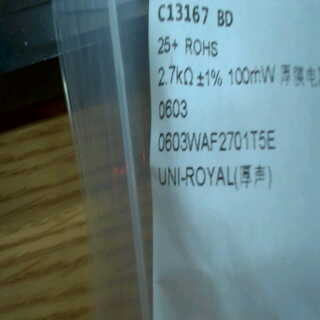2.7kR: (152, 58, 195, 96)
